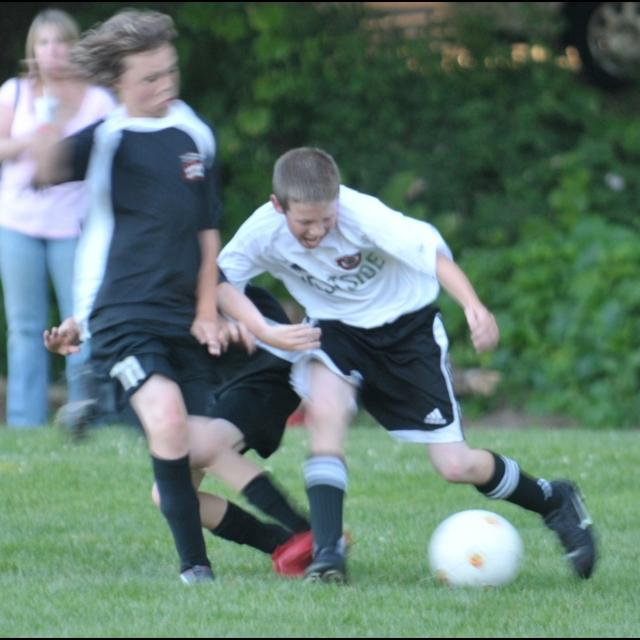Football: (427, 510, 518, 582)
